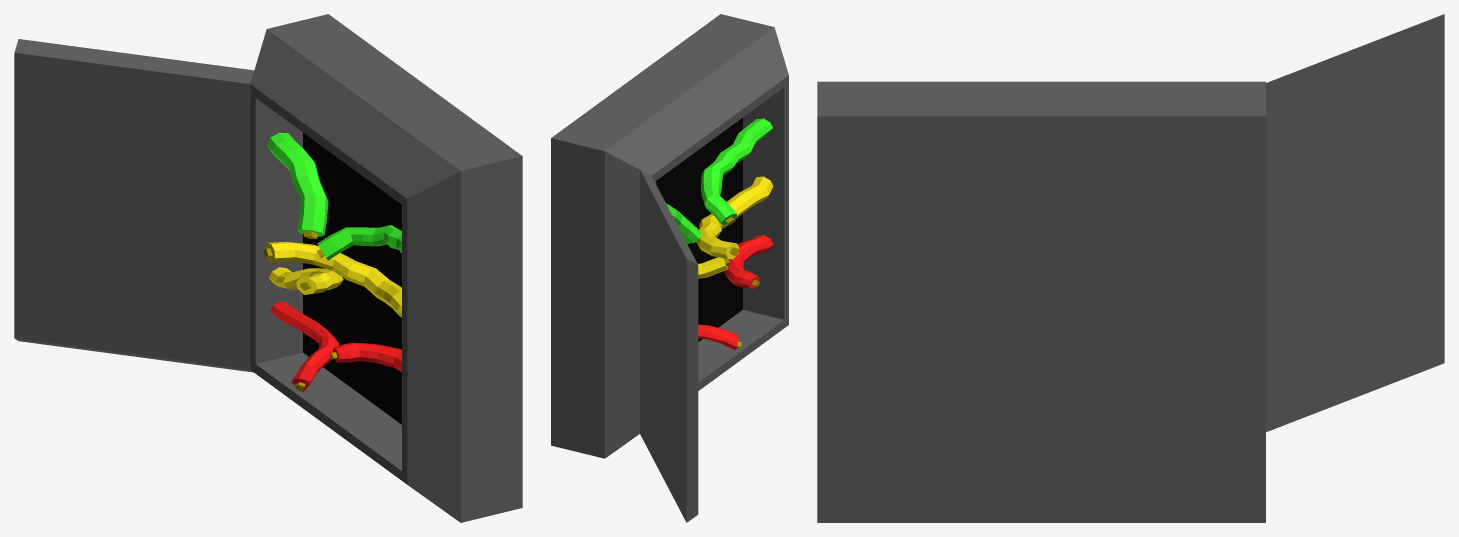
File: SM_Fios_Quebrado.fbx
3 renders of one model, left to right at view 1: azimuth 30°, elevation 25°; view 2: azimuth 150°, elevation 25°; view 3: azimuth 270°, elevation 25°, orthographic. The views are drawn at different scales.
Visible parts, largest first — view 1: Cube.004; view 2: Cube.004; view 3: Cube.004.
Part boxes in pixels (x1,y1,x2,y2): Cube.004: (14,14,522,522); Cube.004: (551,14,788,522); Cube.004: (817,14,1444,522).
Size of the model in its own units: 144 by 200 by 280.
